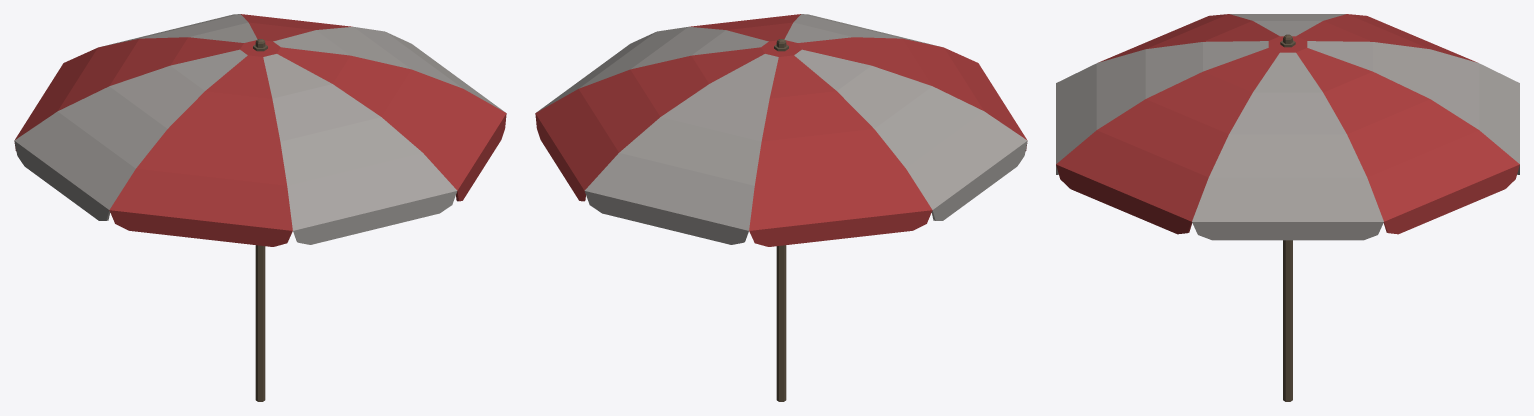
File: SM_Props_City_Beach_Umbrella_03.fbx
The picture shows the model from 3 angles, left to right: view 1: azimuth 30°, elevation 25°; view 2: azimuth 150°, elevation 25°; view 3: azimuth 270°, elevation 25°; orthographic projection.
Visible parts, largest first — view 1: SM_Props_City_Beach_Umbrella_03; view 2: SM_Props_City_Beach_Umbrella_03; view 3: SM_Props_City_Beach_Umbrella_03.
Boxes of the visible parts, left/top/right/bottom form: SM_Props_City_Beach_Umbrella_03: left=14, top=14, right=506, bottom=401; SM_Props_City_Beach_Umbrella_03: left=535, top=14, right=1027, bottom=401; SM_Props_City_Beach_Umbrella_03: left=1056, top=14, right=1519, bottom=401.
Bounding box in the file's own units: 319 × 276 × 319.
